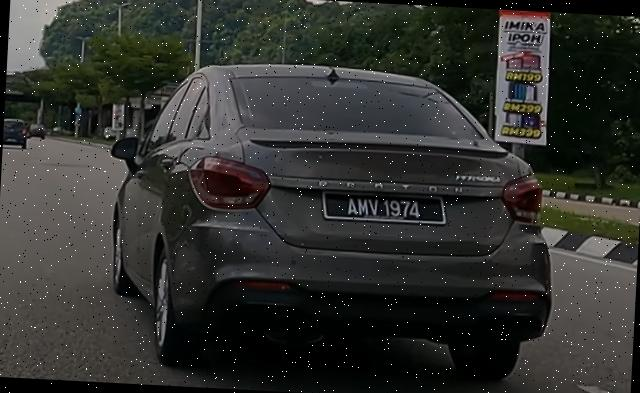License_Plate: (320, 188, 449, 227)
car: (100, 55, 565, 387)
